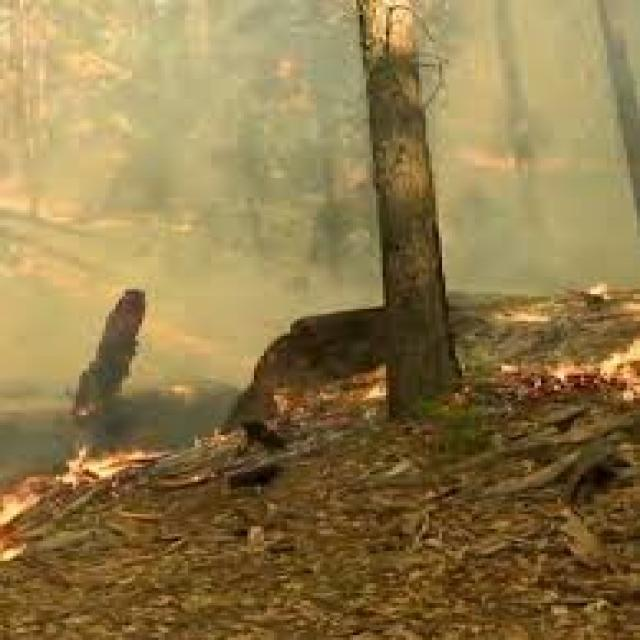Fire: (0, 426, 169, 573), (541, 322, 640, 412), (496, 300, 588, 336)
Smoke: (0, 4, 330, 314), (454, 8, 630, 293)
